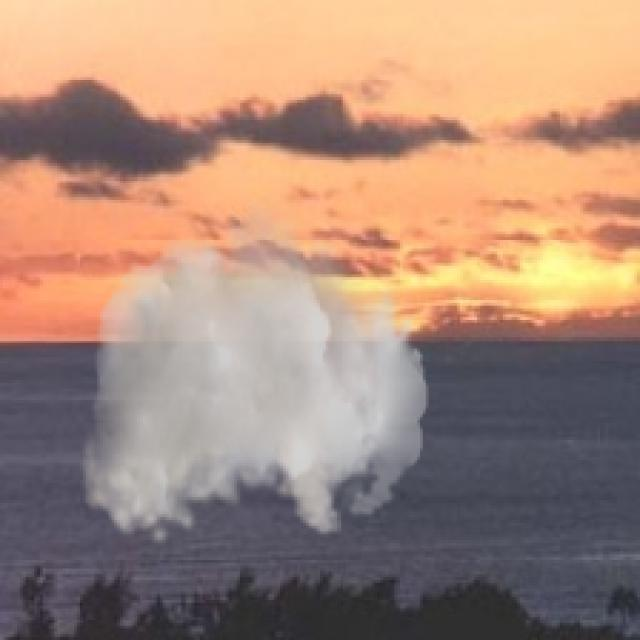smoke: (80, 192, 429, 548)
